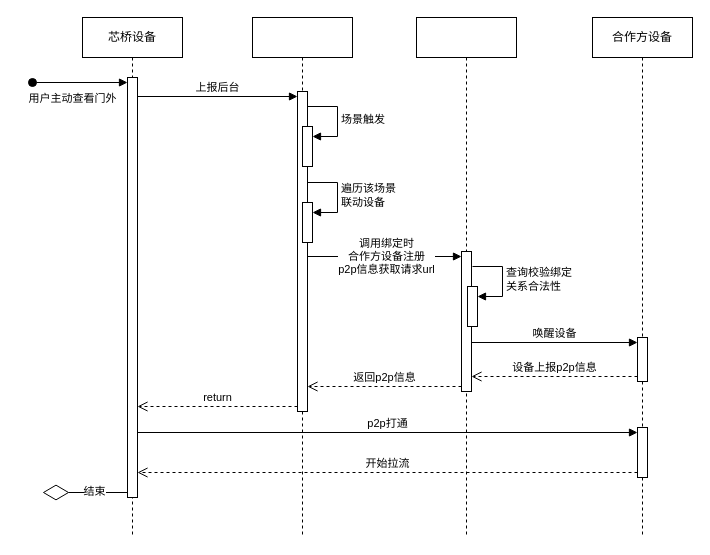
Some shapes in this 710 by 555 pixel diagram are drawn without their labels. The centre of each missing label's shape, as x and y in pixels:
合作方后台: the point at 466,277
芯桥设备云: the point at 302,277
